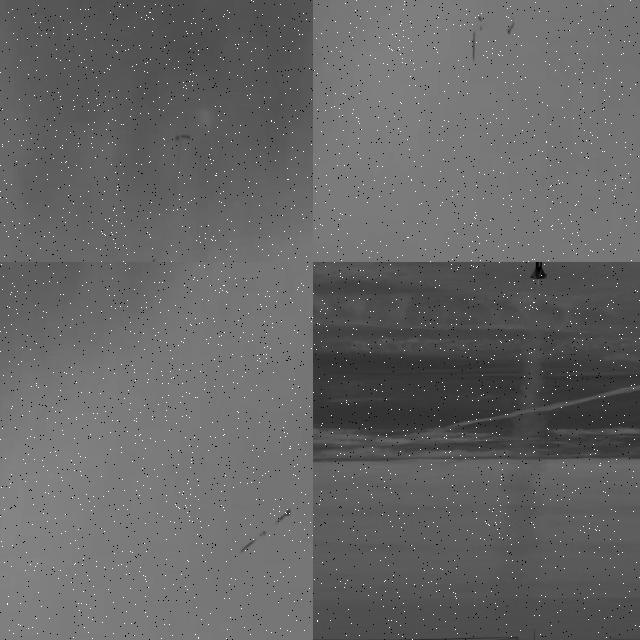Rocket: (241, 508, 291, 553), (530, 262, 547, 279), (507, 21, 515, 34), (147, 258, 155, 262)
